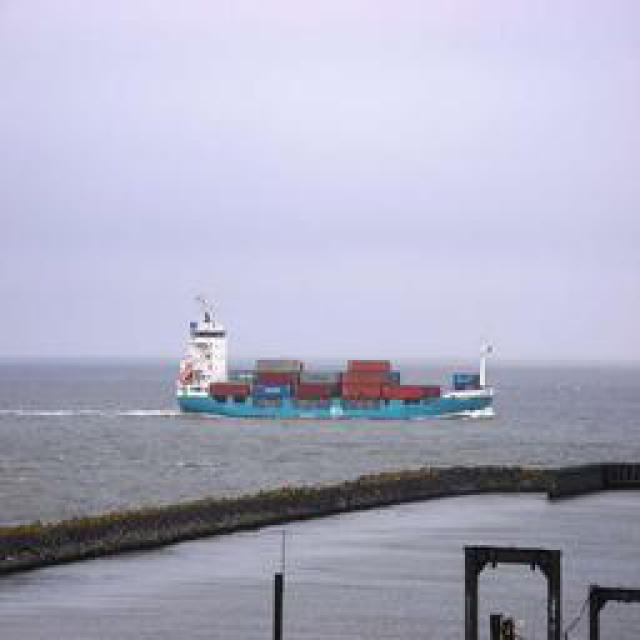Ship: (180, 314, 495, 429)
